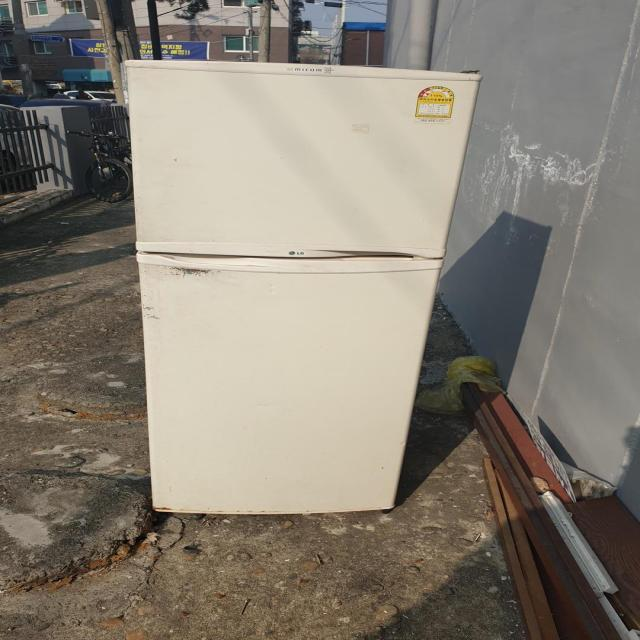refrigerator: (114, 56, 486, 520)
